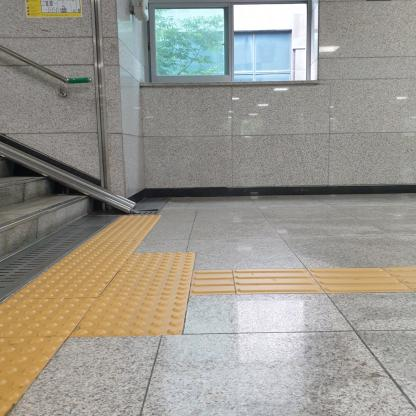go: (308, 267, 415, 293), (232, 268, 326, 295)
stop: (68, 295, 190, 338), (9, 272, 118, 298), (99, 269, 194, 297), (44, 253, 132, 272), (119, 252, 196, 271), (69, 240, 143, 254)
